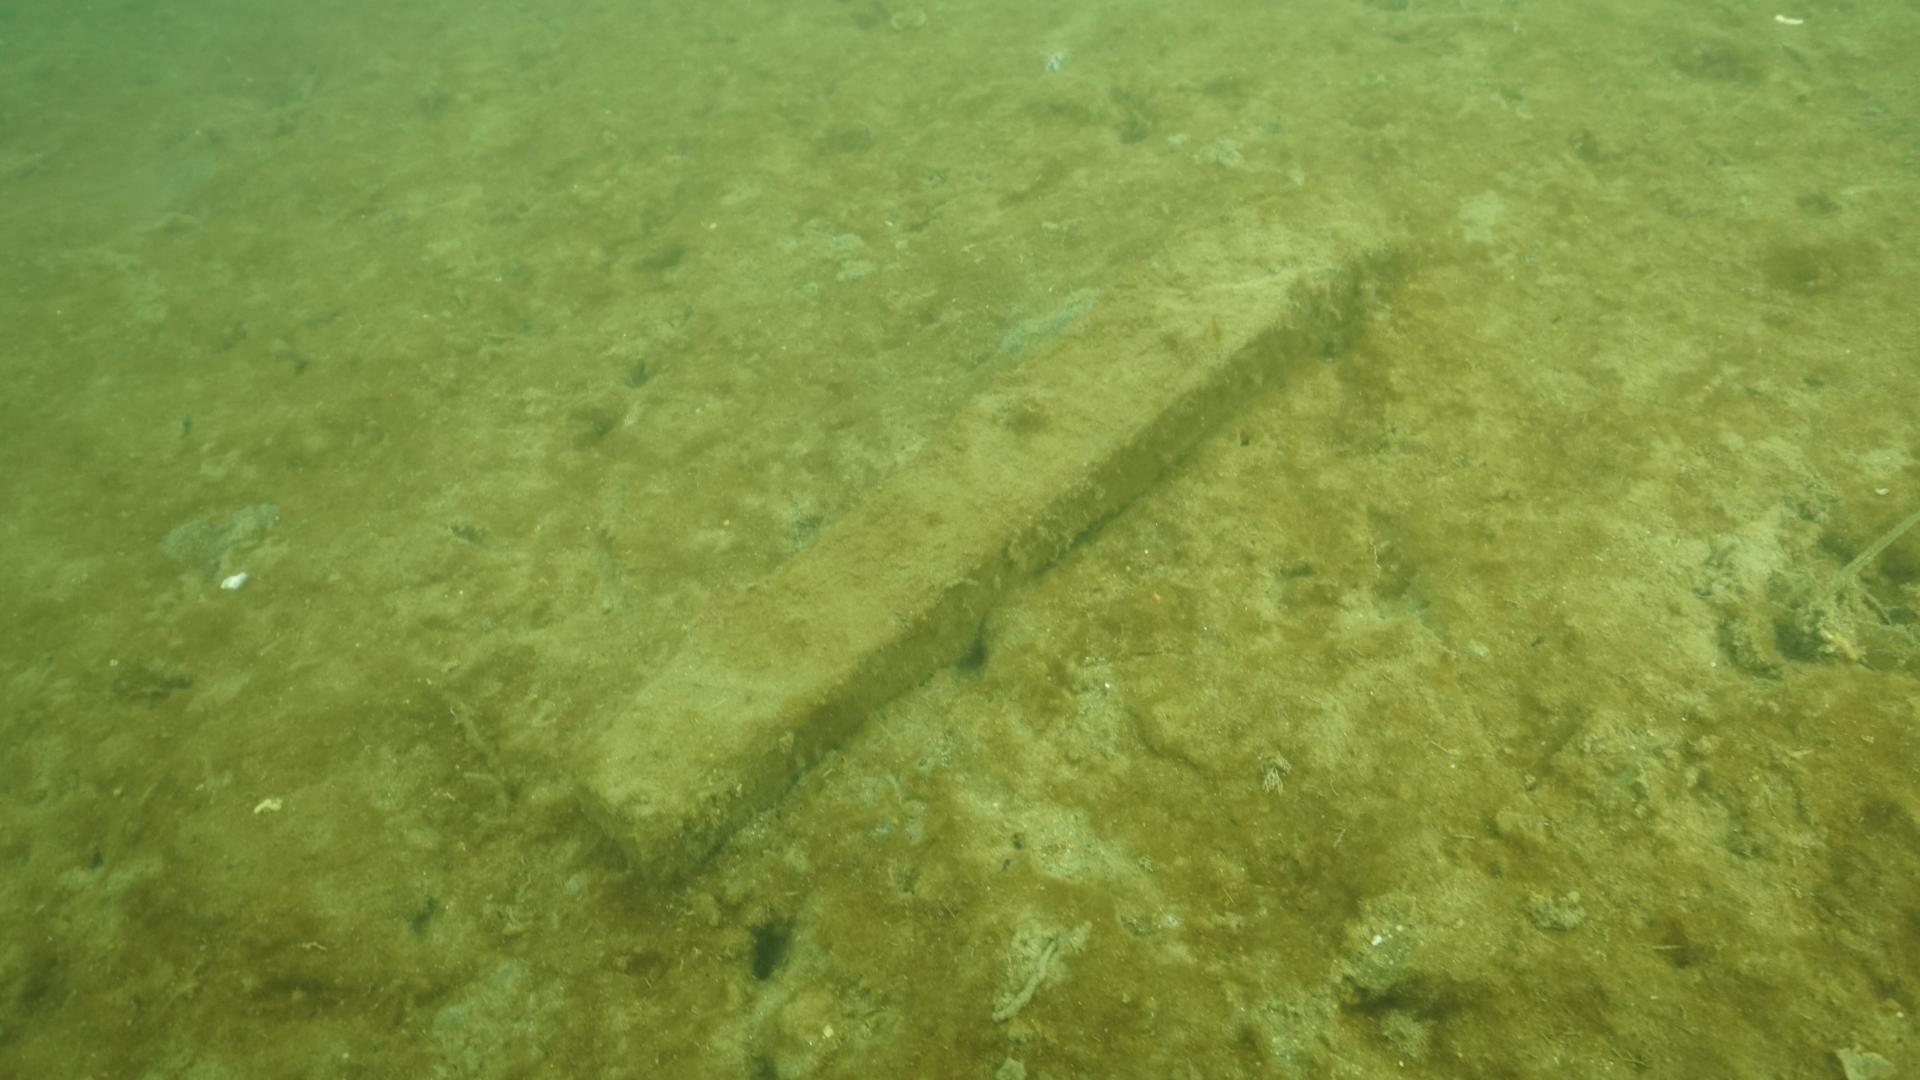wood: (572, 195, 1411, 885)
